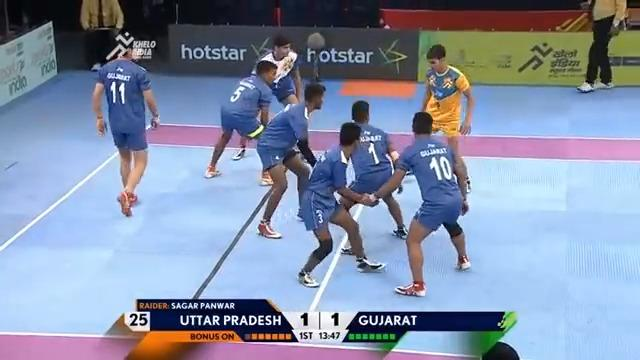Player: (371, 111, 472, 297), (296, 120, 380, 288), (89, 30, 162, 217), (202, 59, 278, 185)
Raider: (420, 43, 475, 194)
referee: (575, 0, 627, 93), (79, 0, 124, 71), (79, 0, 124, 31)
